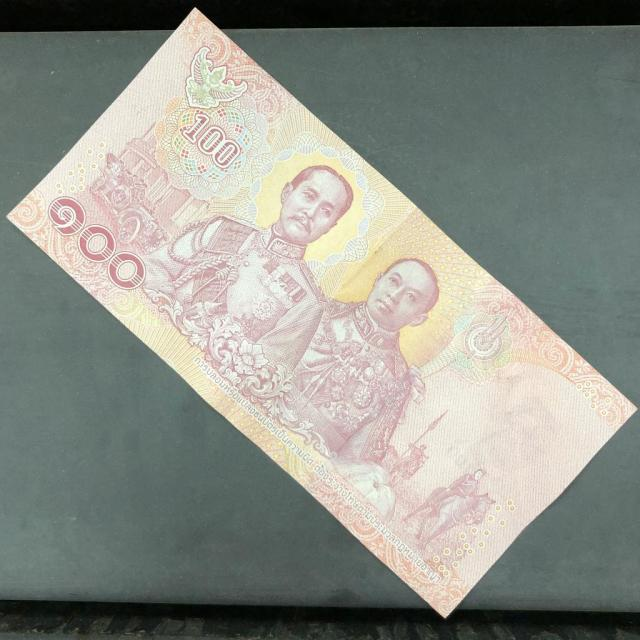THAI100: (9, 11, 635, 616)
